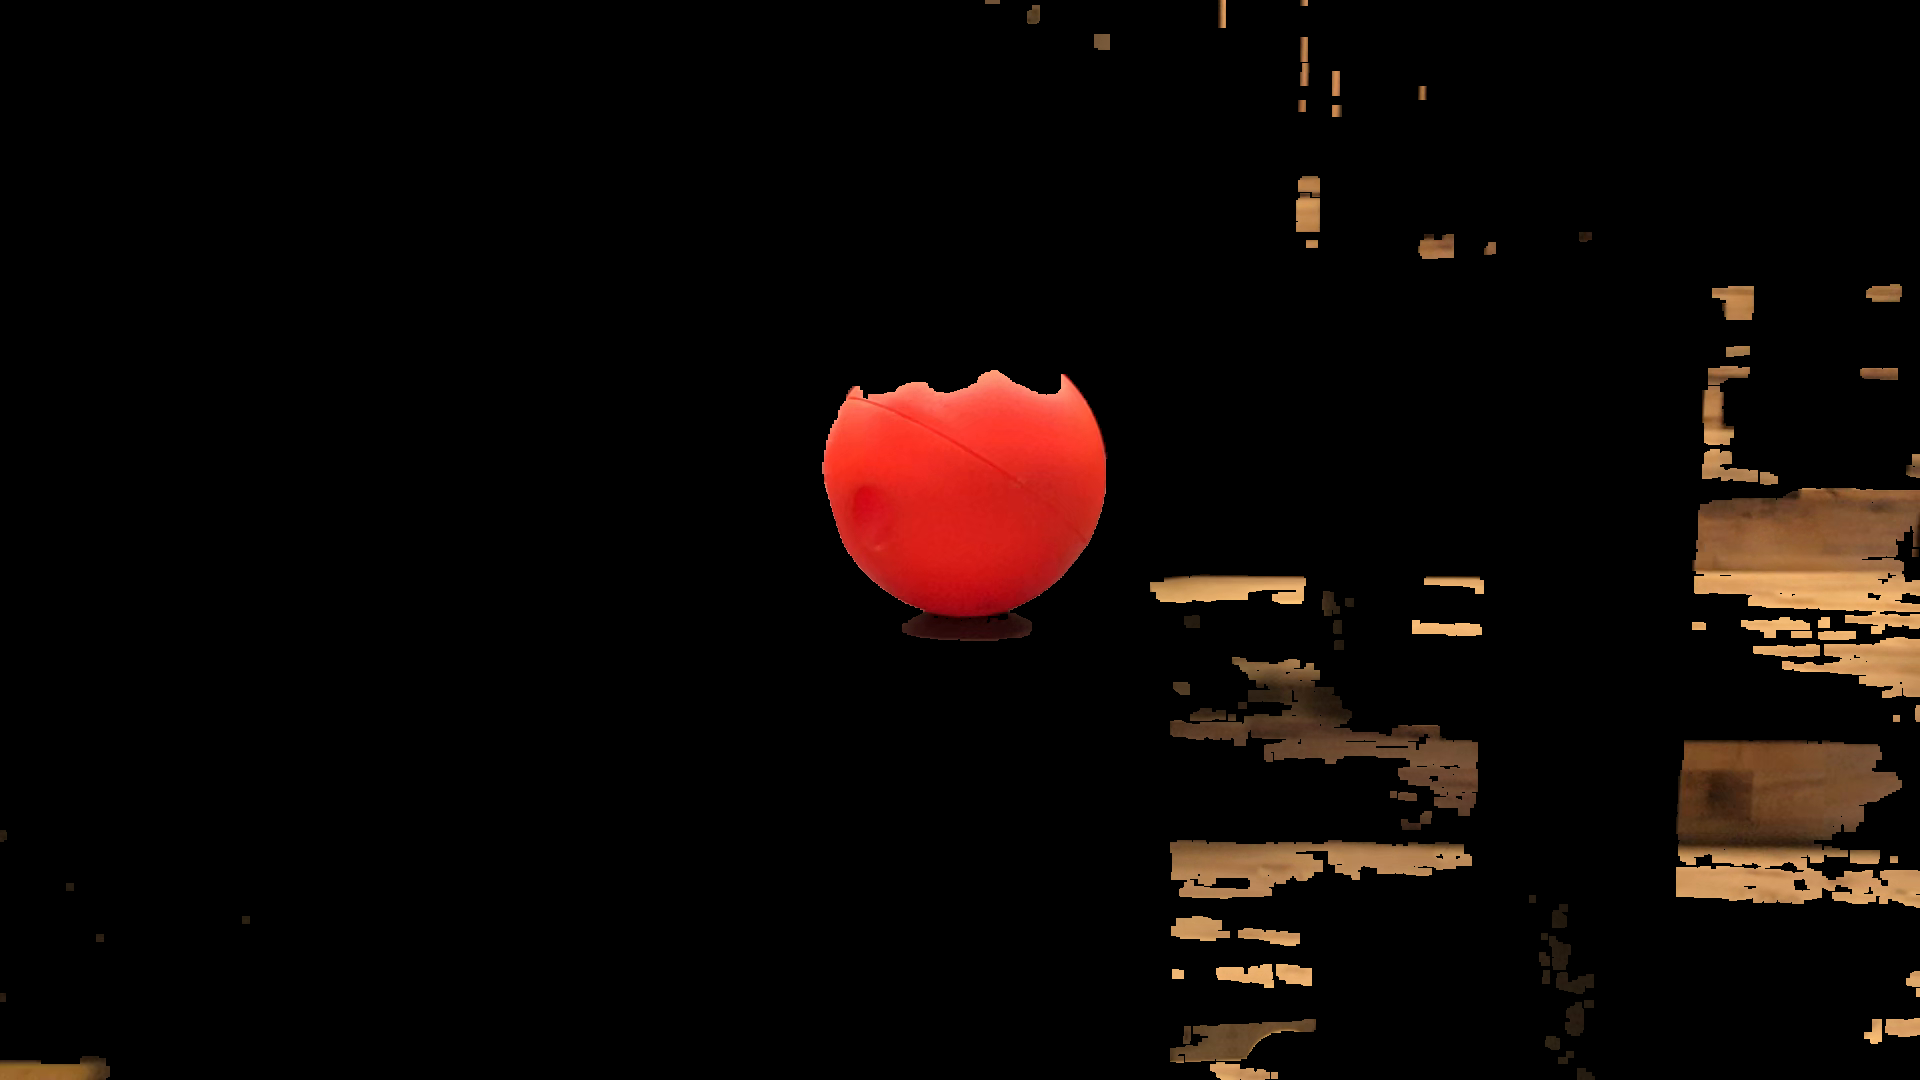Ball: (819, 338, 1112, 618)
